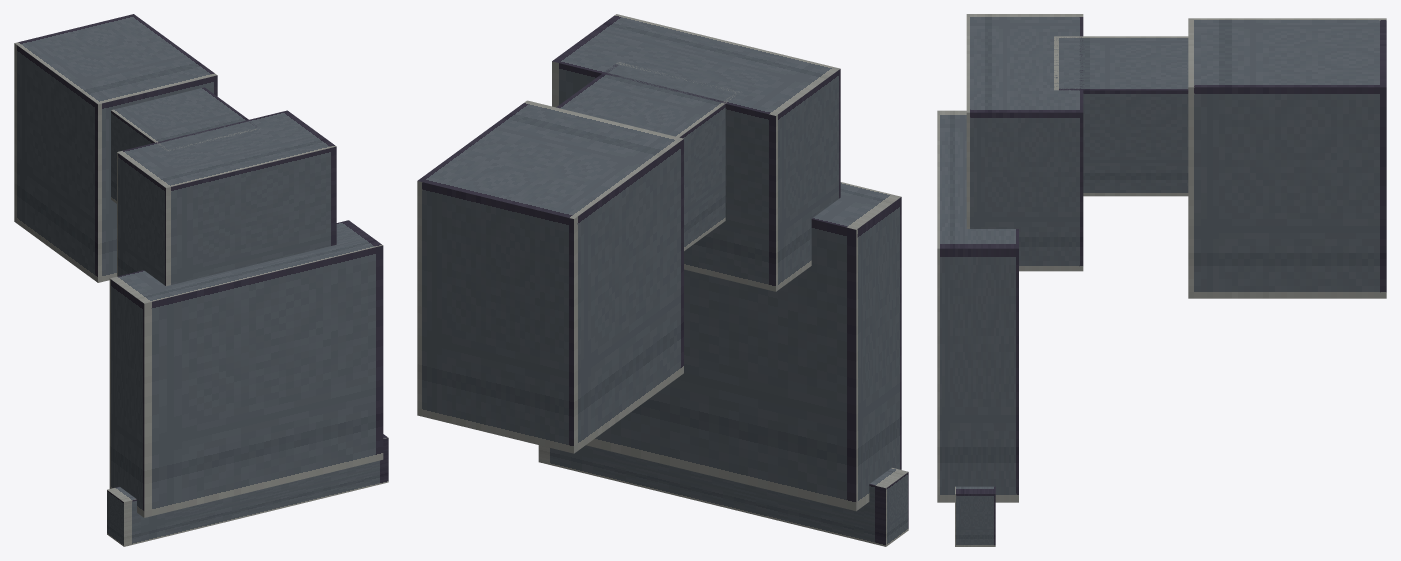
File: workpiece_forged_hoe_tempered.obj
The picture shows the model from 3 angles, left to right: view 1: azimuth 30°, elevation 25°; view 2: azimuth 150°, elevation 25°; view 3: azimuth 270°, elevation 25°; orthographic projection. The views are drawn at different scales.
Parts seen in each view (by area): view 1: geometry; view 2: geometry; view 3: geometry.
Boxes of the visible parts, x1=… form: geometry: x1=14, y1=14, x2=388, y2=546; geometry: x1=417, y1=14, x2=908, y2=546; geometry: x1=937, y1=14, x2=1386, y2=546.
Bounding box in the file's own units: 0.3875 × 0.4938 × 0.4812.
